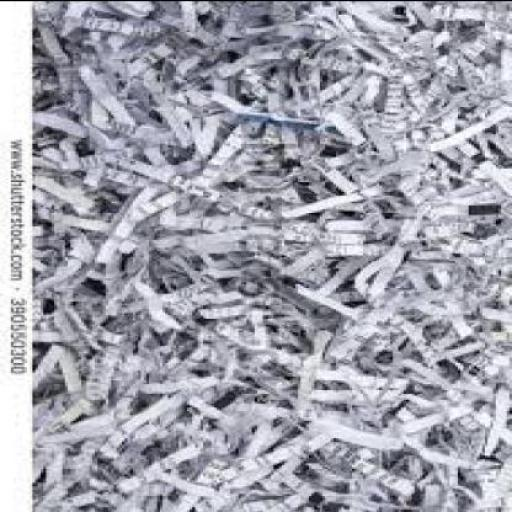paper: (34, 1, 511, 511)
